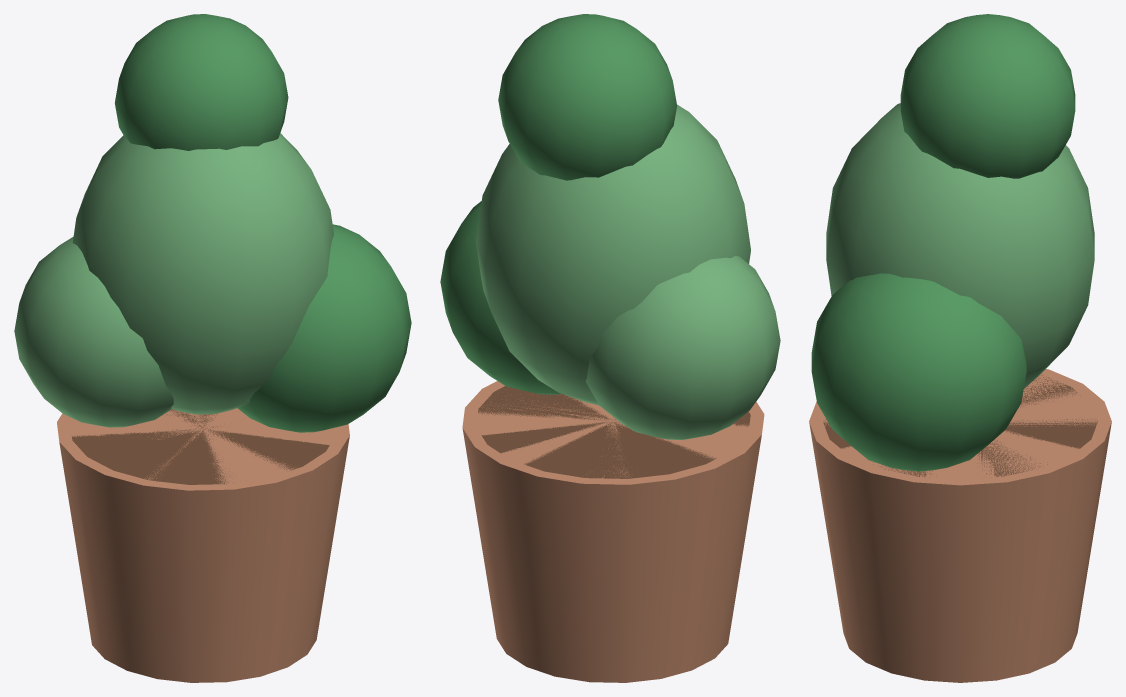
File: furn_plant_ph.glb
The picture shows the model from 3 angles, left to right: view 1: azimuth 30°, elevation 25°; view 2: azimuth 150°, elevation 25°; view 3: azimuth 270°, elevation 25°; orthographic projection. The views are drawn at different scales.
Parts seen in each view (by area): view 1: furn_plant; view 2: furn_plant; view 3: furn_plant.
Part boxes in pixels (x1,y1,x2,y2): furn_plant: [14, 14, 411, 682]; furn_plant: [440, 14, 780, 682]; furn_plant: [809, 14, 1111, 682].
Size of the model in its own units: 0.58 by 0.99 by 0.44.
